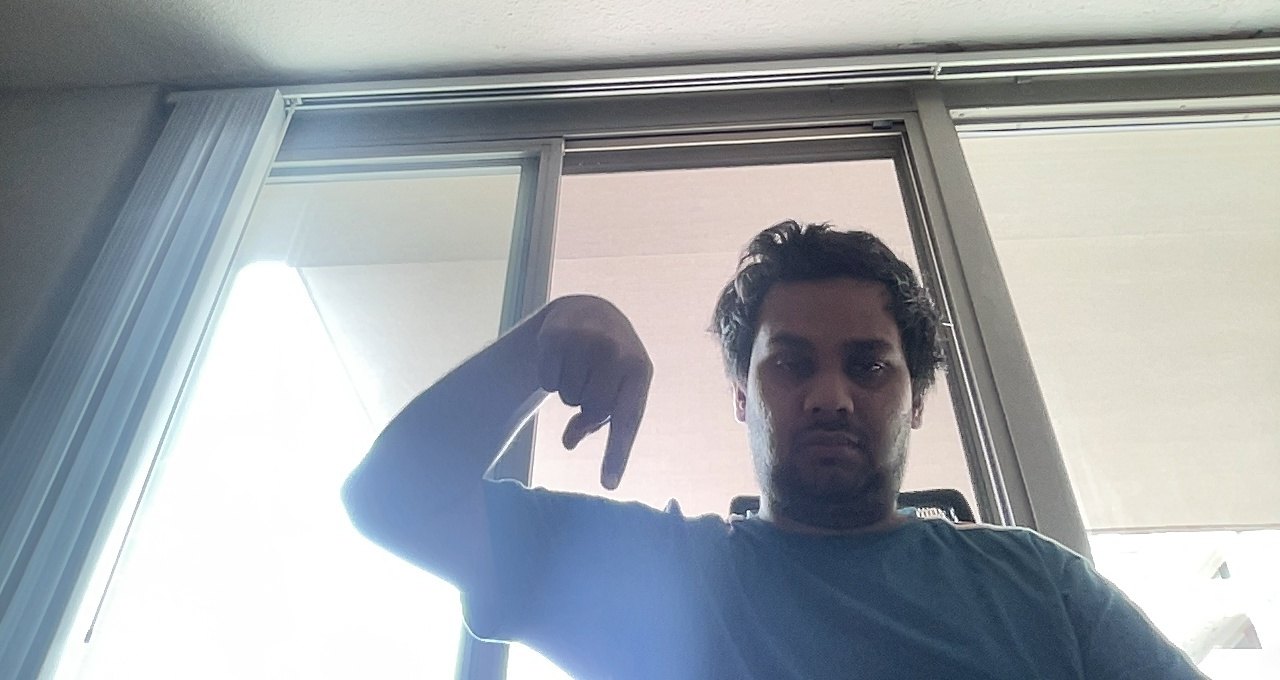fingerdown: (529, 287, 657, 498)
